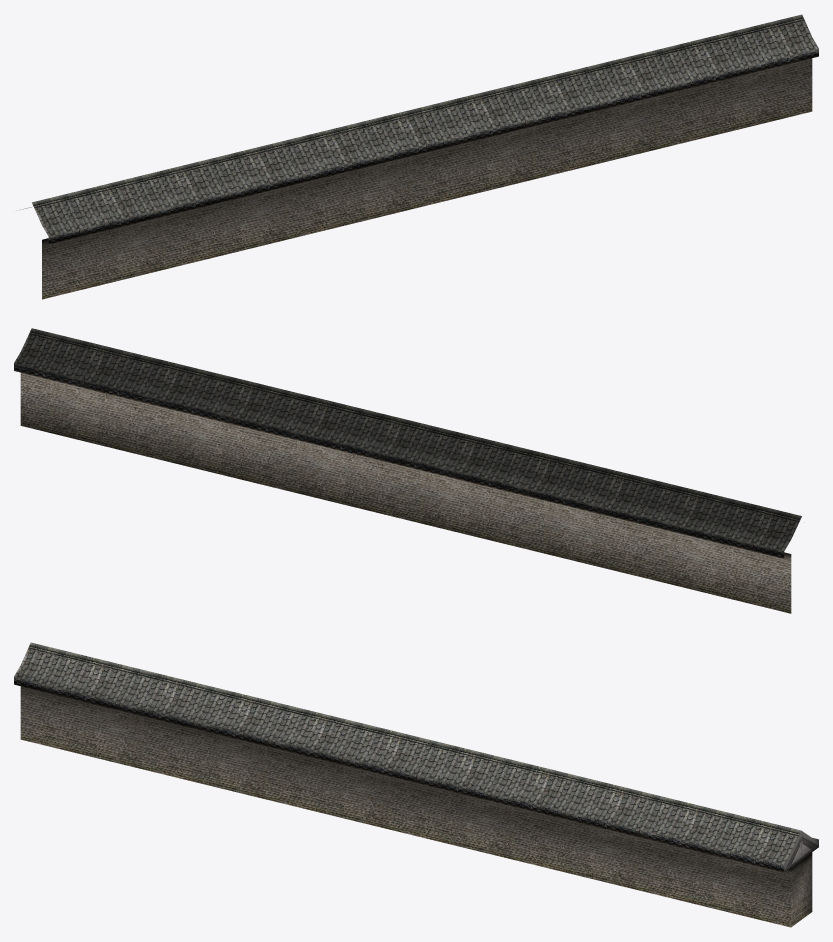
Rendered from cj_rich4_rightdam_1.glb.
3 views of the same model, one above another, from view 1: azimuth 30°, elevation 25°; view 2: azimuth 150°, elevation 25°; view 3: azimuth 330°, elevation 25° (orthographic).
Visible parts, largest first — view 1: CJ_rich4_rightdam_1; view 2: CJ_rich4_rightdam_1; view 3: CJ_rich4_rightdam_1.
Part boxes in pixels (x1,y1,x2,y2): CJ_rich4_rightdam_1: [19, 14, 818, 299]; CJ_rich4_rightdam_1: [14, 328, 801, 613]; CJ_rich4_rightdam_1: [14, 642, 818, 927].
Size of the model in its own units: 20.6 by 2.29 by 1.6.
1 material, 1 textured.
